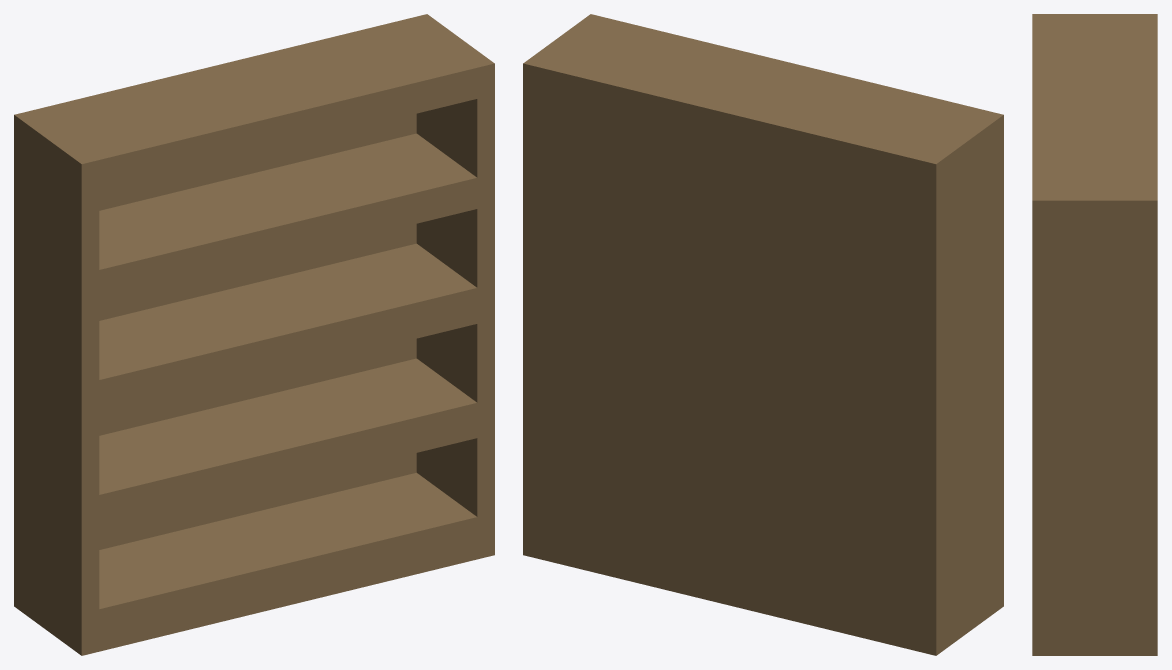
File: Shelf.fbx
The picture shows the model from 3 angles, left to right: view 1: azimuth 30°, elevation 25°; view 2: azimuth 150°, elevation 25°; view 3: azimuth 270°, elevation 25°; orthographic projection. The views are drawn at different scales.
Visible parts, largest first — view 1: pCube6; view 2: pCube6; view 3: pCube6.
Part boxes in pixels (box(x1,y1,x2,y2)): pCube6: box(14, 14, 494, 655); pCube6: box(523, 14, 1003, 655); pCube6: box(1032, 14, 1157, 655).
Bounding box in the file's own units: 5.48 × 6.23 × 1.55.
